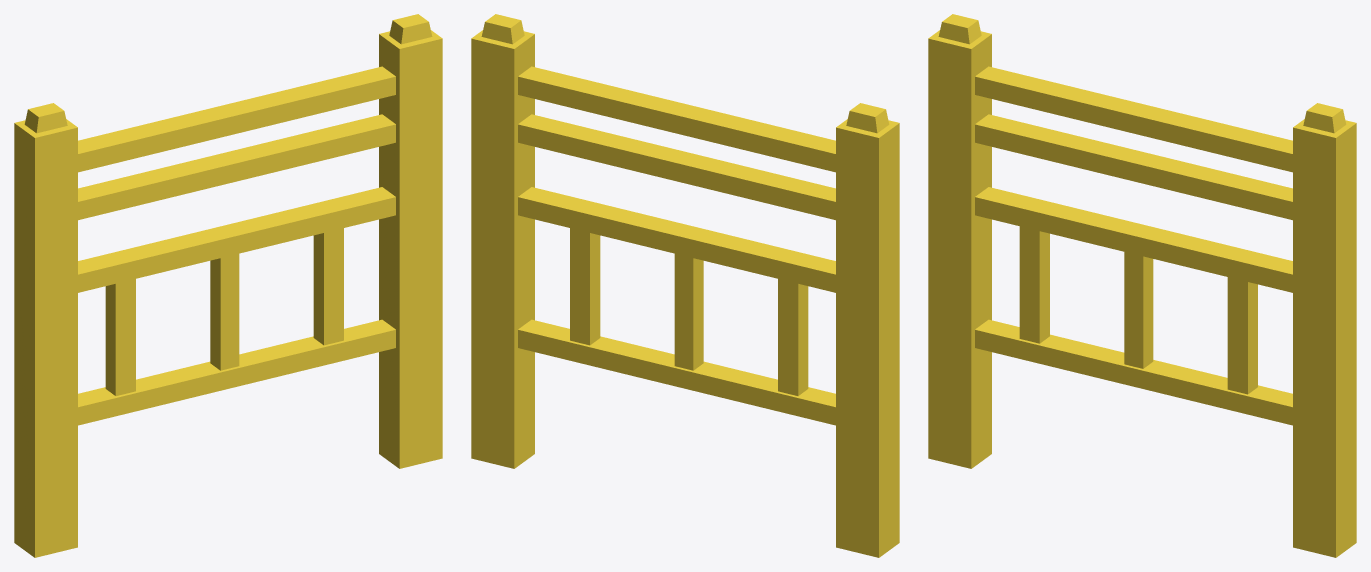
File: valla_01.fbx
The picture shows the model from 3 angles, left to right: view 1: azimuth 30°, elevation 25°; view 2: azimuth 150°, elevation 25°; view 3: azimuth 330°, elevation 25°; orthographic projection.
Parts seen in each view (by area): view 1: valla_01; view 2: valla_01; view 3: valla_01.
Boxes of the visible parts, x1,y1,x2,y2 form: valla_01: [14, 14, 442, 557]; valla_01: [471, 14, 899, 557]; valla_01: [928, 14, 1356, 557].
Bounding box in the file's own units: 220 × 224 × 19.29.
